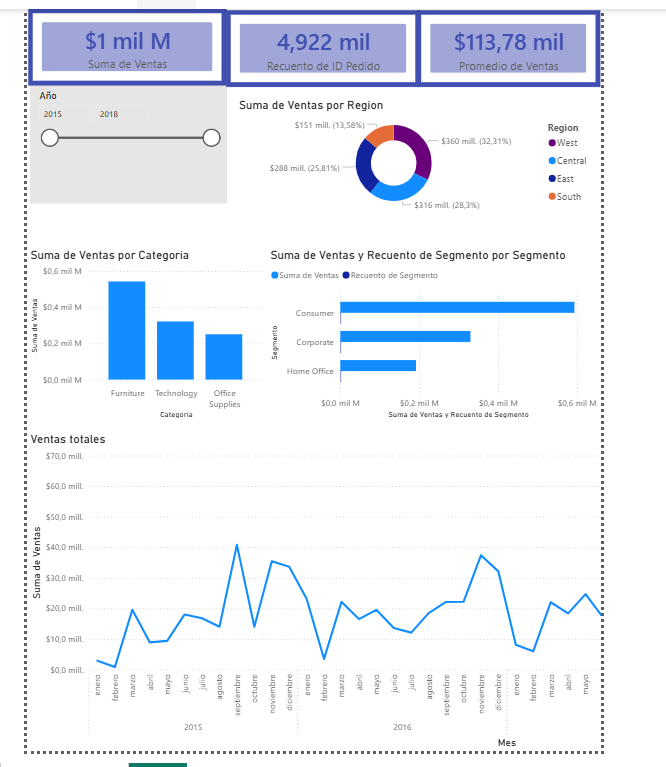

What the dashboard file says about the page in this screenshot:
{"tool":"powerbi","page":{"name":"Página 1","canvas":[816,1056],"ordinal":1},"visuals":[{"type":"lineChart","title":"Ventas totales","fields":{"Category":["ventas_limpio.Fecha Pedido.Variación.Jerarquía de fechas.Año","ventas_limpio.Fecha Pedido.Variación.Jerarquía de fechas.Mes"],"Y":["Sum(ventas_limpio.Ventas)"]},"box":[0,602,1280.9,454.7],"z":0},{"type":"columnChart","fields":{"Category":["ventas_limpio.Categoria"],"Y":["Sum(ventas_limpio.Ventas)"]},"box":[0,339.4,341.6,247.6],"z":1000},{"type":"clusteredBarChart","fields":{"Category":["ventas_limpio.Segmento","ventas_limpio.Ventas"],"Y":["Sum(ventas_limpio.Ventas)","CountNonNull(ventas_limpio.Segmento)"]},"box":[341.6,339.4,473.9,247.6],"z":2000},{"type":"donutChart","fields":{"Category":["ventas_limpio.Region"],"Y":["Sum(ventas_limpio.Ventas)"]},"box":[296.7,126,514.5,166.5],"z":3000},{"type":"slicer","fields":{"Values":["ventas_limpio.Fecha Pedido.Variación.Jerarquía de fechas.Año"]},"box":[4.3,108.9,279.7,166.5],"z":4000},{"type":"cardVisual","fields":{"Data":["Count(ventas_limpio.ID Pedido)"]},"box":[283.9,2.1,275.4,108.9],"z":5000},{"type":"cardVisual","fields":{"Data":["Avg(ventas_limpio.Ventas)"]},"box":[555.1,2.1,260.4,108.9],"z":6000},{"type":"cardVisual","fields":{"Data":["Sum(ventas_limpio.Ventas)"]},"box":[4.3,0,281.8,108.9],"z":7000}]}

Visuals, with their boxes on the page's 816x1056 design canvas (x1, y1, x2, y2). These are canvas units, not pixel positions in the 666x767 screenshot, which may show the page scaled, cropped or inside an application window:
"Ventas totales" lineChart: select_region(0, 602, 1281, 1057)
columnChart - ventas_limpio.Categoria x Sum(ventas_limpio.Ventas): select_region(0, 339, 342, 587)
clusteredBarChart - ventas_limpio.Segmento x ventas_limpio.Ventas: select_region(342, 339, 816, 587)
donutChart - ventas_limpio.Region x Sum(ventas_limpio.Ventas): select_region(297, 126, 811, 292)
slicer - ventas_limpio.Fecha Pedido.Variación.Jerarquía de fechas.Año: select_region(4, 109, 284, 275)
cardVisual - Count(ventas_limpio.ID Pedido): select_region(284, 2, 559, 111)
cardVisual - Avg(ventas_limpio.Ventas): select_region(555, 2, 816, 111)
cardVisual - Sum(ventas_limpio.Ventas): select_region(4, 0, 286, 109)
